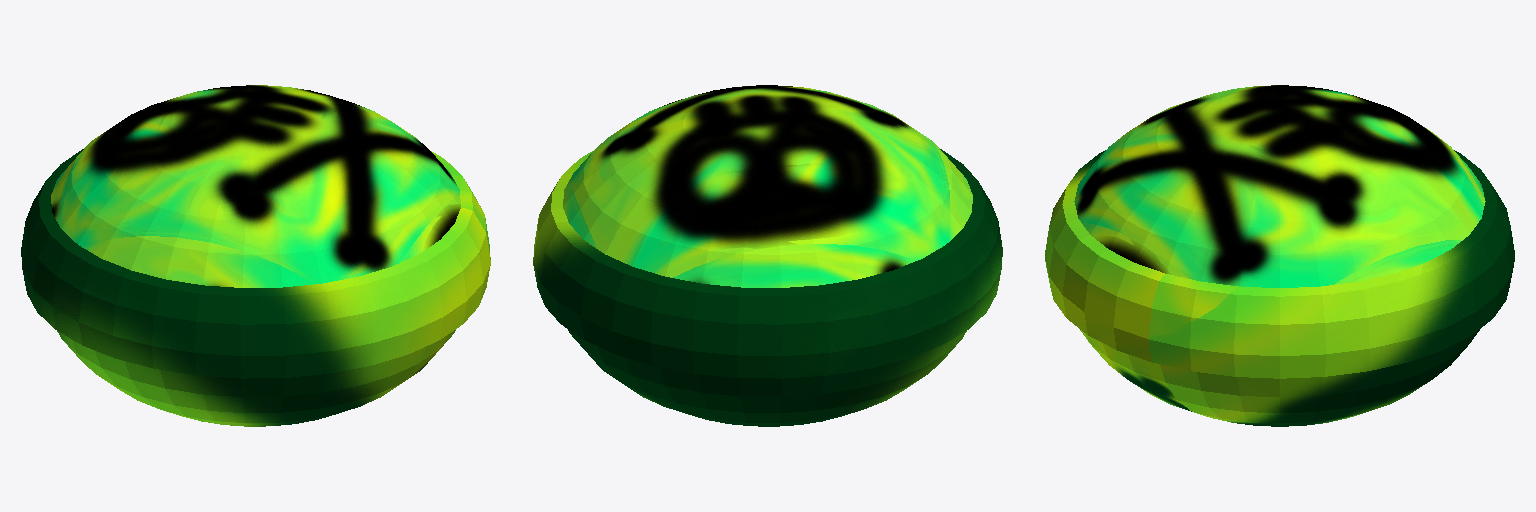
3 renders of one model, left to right at view 1: azimuth 30°, elevation 25°; view 2: azimuth 150°, elevation 25°; view 3: azimuth 270°, elevation 25°, orthographic.
Visible parts, largest first — view 1: Sphere; view 2: Sphere; view 3: Sphere.
Boxes of the visible parts, x1,y1,x2,y2 form: Sphere: [21, 85, 490, 426]; Sphere: [533, 85, 1002, 426]; Sphere: [1045, 85, 1514, 426].
Size of the model in its own units: 2.11 by 1.41 by 2.11.
2 materials, 2 textured.